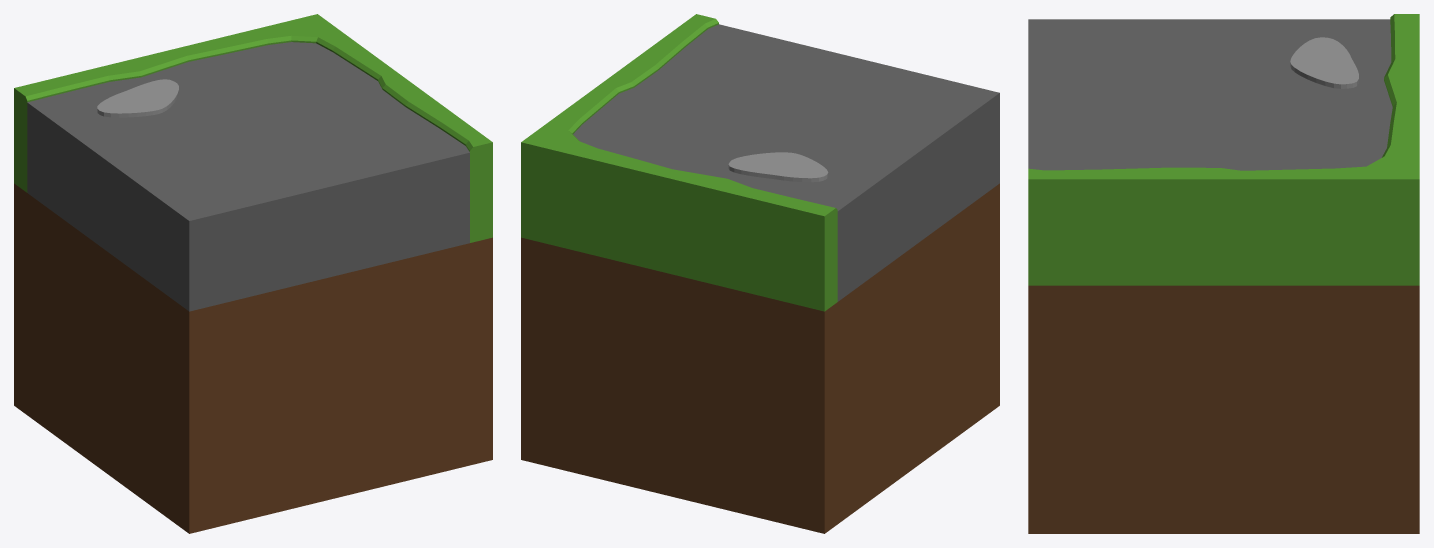
The model's file is Basement-Grass 2.fbx.
3 renders of one model, left to right at view 1: azimuth 30°, elevation 25°; view 2: azimuth 150°, elevation 25°; view 3: azimuth 270°, elevation 25°, orthographic. The views are drawn at different scales.
Visible parts, largest first — view 1: Basement/Grass corner 2; view 2: Basement/Grass corner 2; view 3: Basement/Grass corner 2.
Part boxes in pixels (x1,y1,x2,y2): Basement/Grass corner 2: [14, 14, 492, 533]; Basement/Grass corner 2: [521, 14, 999, 533]; Basement/Grass corner 2: [1028, 14, 1419, 533].
Bounding box in the file's own units: 2 × 2 × 2.
